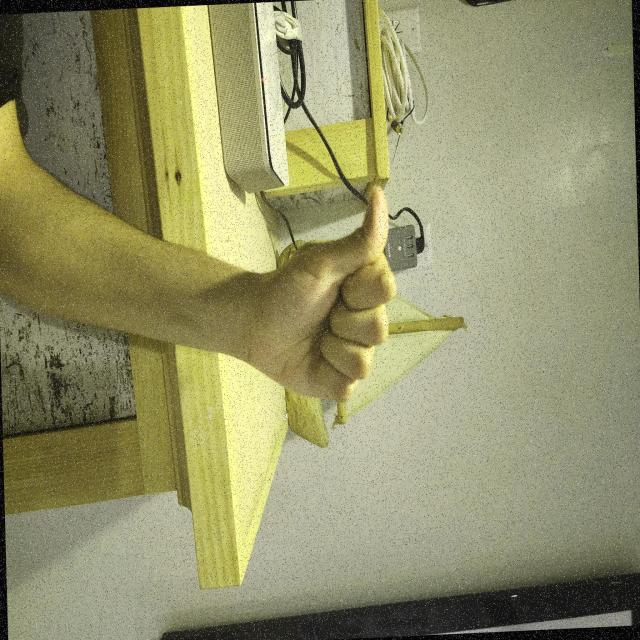A: (301, 314, 466, 515)
